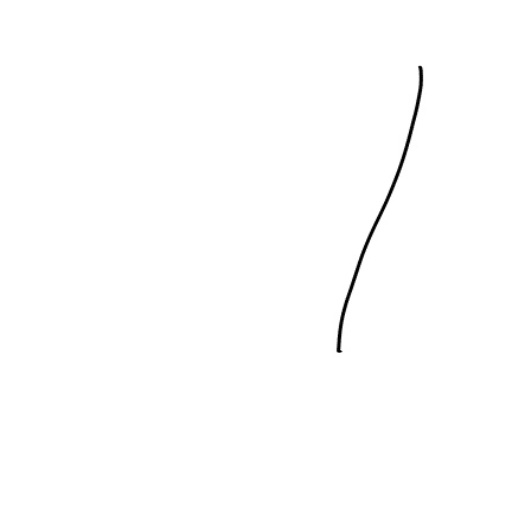line: (325, 60, 440, 365)
